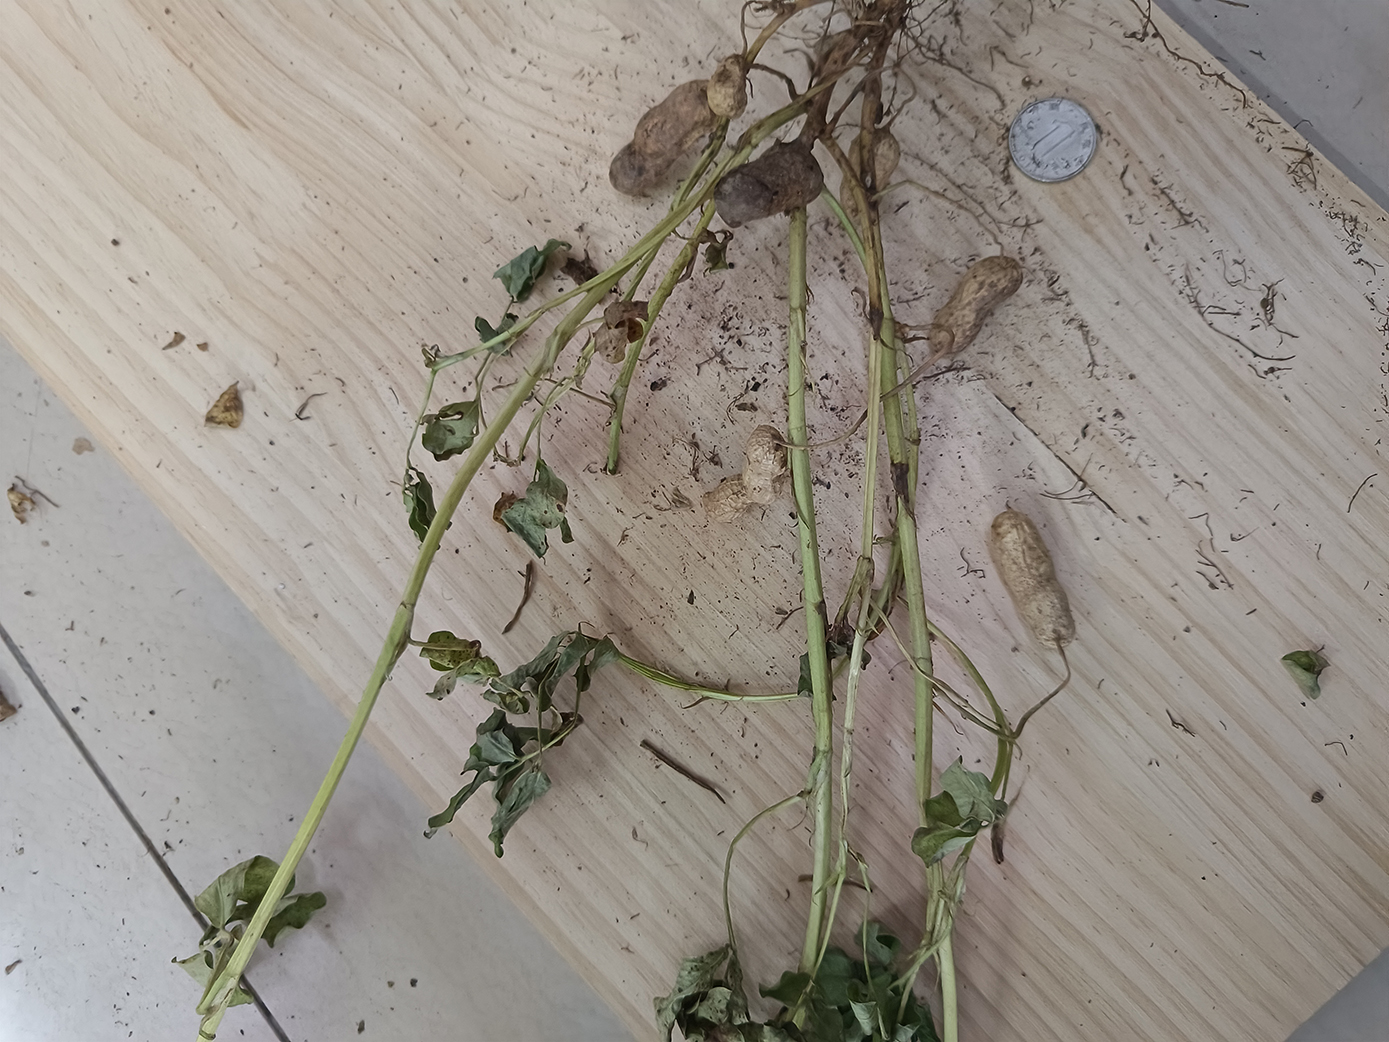h: (989, 510, 1077, 652), (927, 255, 1023, 360), (705, 424, 788, 524), (840, 128, 899, 225), (706, 55, 749, 116)
l: (607, 80, 711, 202), (713, 143, 825, 225)
